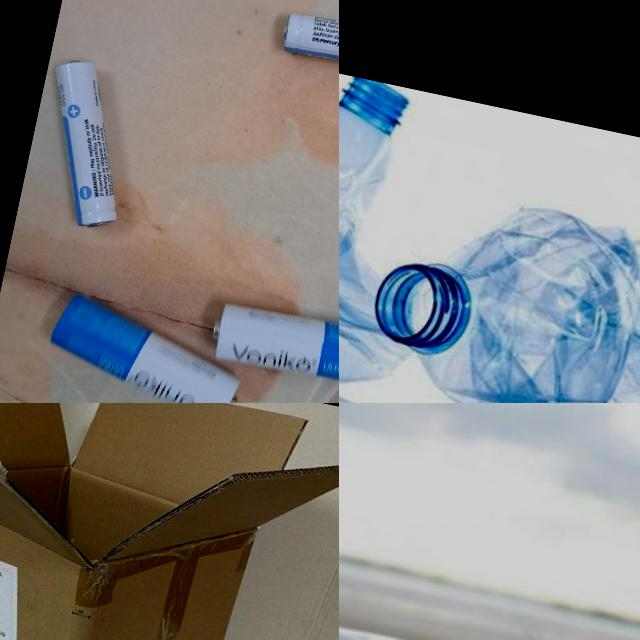bateria: (39, 286, 254, 403), (24, 54, 150, 232), (205, 295, 339, 397), (275, 2, 339, 85)
garrafa plástica: (355, 178, 640, 403), (339, 39, 469, 403), (339, 540, 640, 640)
papelão: (0, 403, 339, 640)
